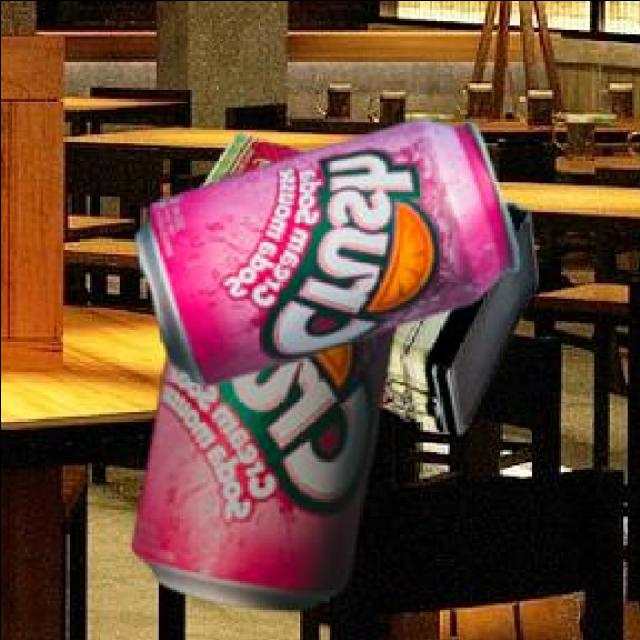logam: (139, 117, 521, 381), (207, 130, 539, 430), (134, 321, 396, 606)
